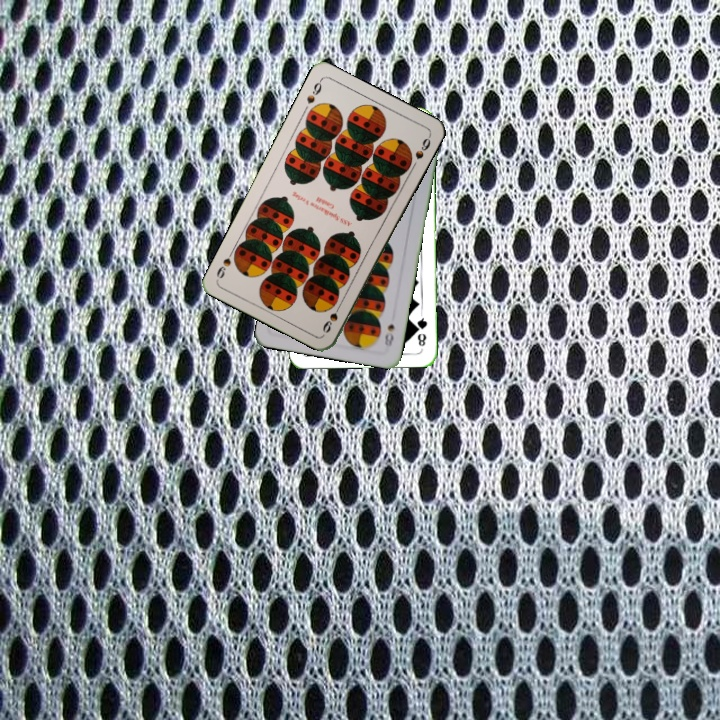G8: (413, 310, 430, 349)
S8: (380, 320, 397, 351)
S9: (318, 298, 345, 336), (303, 76, 324, 107)
